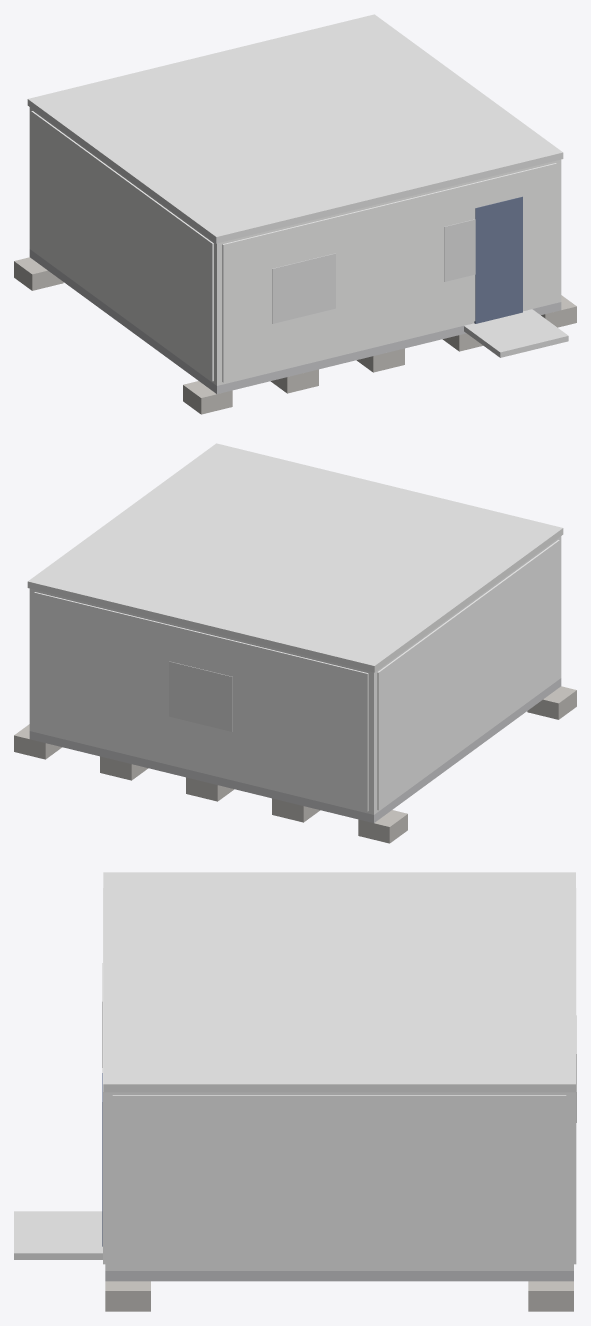
Rendered from Studio-20-Retirement-LOD2.glb.
The picture shows the model from 3 angles, top to bottom: view 1: azimuth 30°, elevation 25°; view 2: azimuth 150°, elevation 25°; view 3: azimuth 270°, elevation 25°; orthographic projection. The views are drawn at different scales.
Parts seen in each view (by area): view 1: RoofMain, ExteriorPanelsStandard, EntryDoor, WindowsStandard, ExteriorShell, FoundationBlocks, BaseFrame, AccessibilityRetirement; view 2: ExteriorPanelsStandard, RoofMain, ExteriorShell, FoundationBlocks, BaseFrame, WindowsStandard; view 3: RoofMain, ExteriorPanelsStandard, ExteriorShell, BaseFrame, AccessibilityRetirement, FoundationBlocks.
Boxes of the visible parts, x1,y1,x2,y2 form: RoofMain: (27,14,563,243); ExteriorPanelsStandard: (31,111,556,382); EntryDoor: (474,196,522,323); WindowsStandard: (272,219,475,323); ExteriorShell: (29,107,561,385); FoundationBlocks: (14,257,576,414); BaseFrame: (29,249,561,393); AccessibilityRetirement: (464,309,568,357); ExteriorPanelsStandard: (34,540,559,811); RoofMain: (27,443,563,672); ExteriorShell: (29,536,561,814); FoundationBlocks: (14,686,576,843); BaseFrame: (29,678,561,822); WindowsStandard: (169,661,232,731); RoofMain: (103,872,575,1092); ExteriorPanelsStandard: (103,888,576,1268); ExteriorShell: (105,1092,573,1270); BaseFrame: (105,1271,573,1281); AccessibilityRetirement: (14,1211,102,1259); FoundationBlocks: (105,1281,573,1311).
Size of the model in its own units: 7.14 by 3.17 by 7.4.
